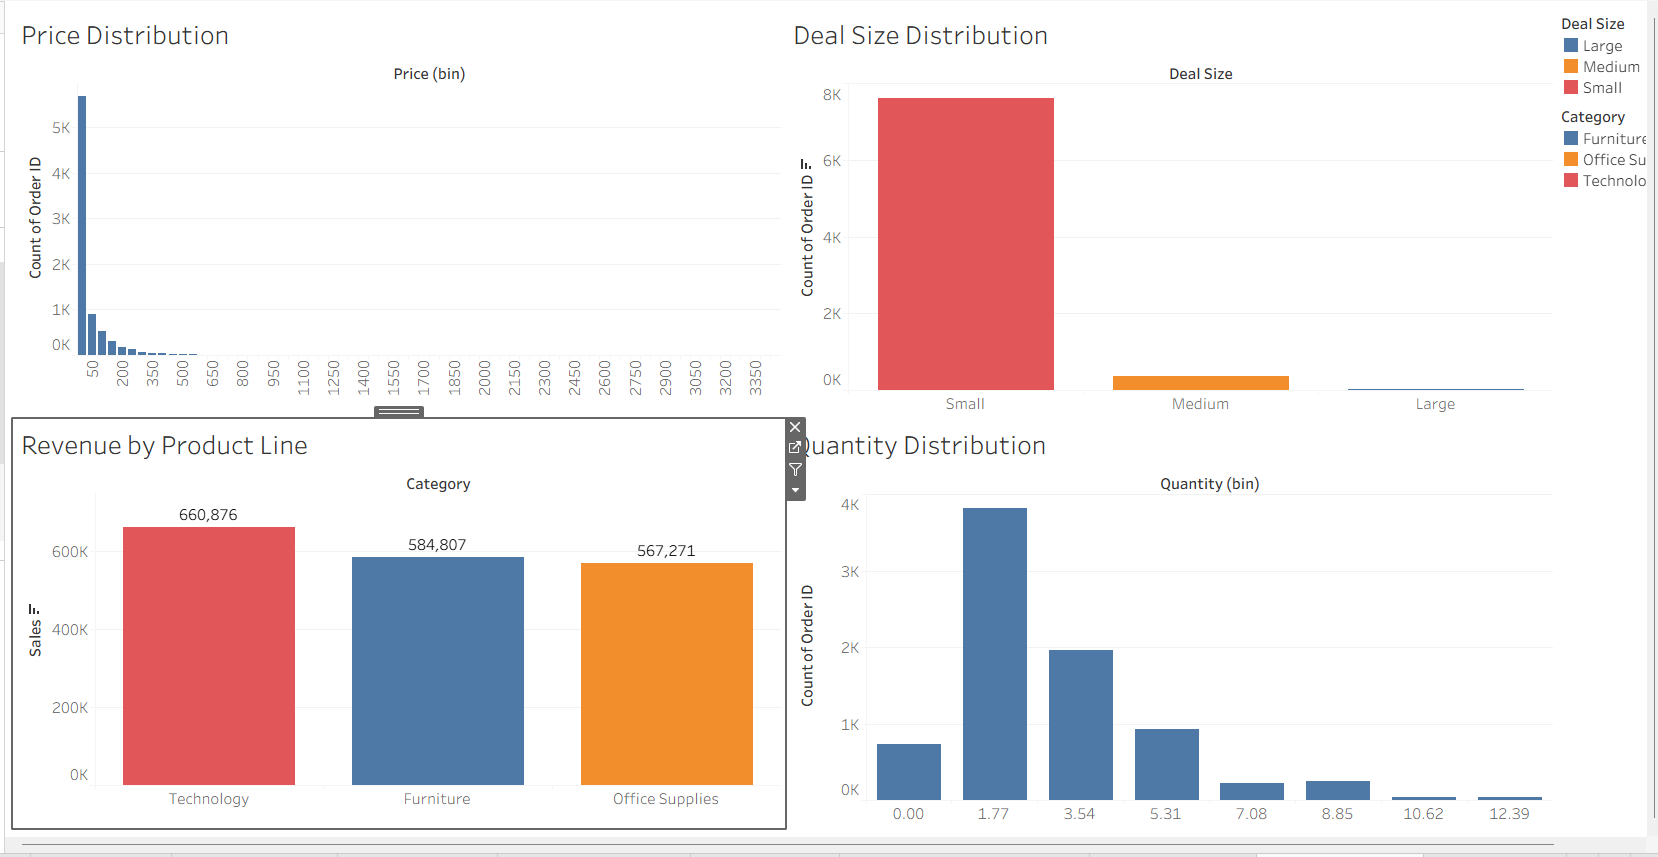

The page's visual inventory and layout, read from the dashboard file:
{"tool":"tableau","page":{"name":"Sales Dashboard 2","canvas":[1000,1000],"units":"permille","ordinal":1},"visuals":[{"type":"worksheet","title":"Price Distribution","mark":"Automatic","rows":["Order ID"],"cols":["Price (bin)"],"box":[4.7,9.6,448.8,490.4]},{"type":"worksheet","title":"Deal Size Distribution","mark":"Bar","rows":["Order ID"],"cols":["Calculation_1284286460538880"],"box":[453.5,9.6,448.8,490.4]},{"type":"legend","title":"Deal Size Distribution","param":"[federated.0youw2d06q1iv212xikgl08ue6ow].[none:Calculation_1284286460538880:nk]","box":[902.3,9.6,93,111.4]},{"type":"legend","title":"Revenue by Product Line","param":"[federated.0youw2d06q1iv212xikgl08ue6ow].[none:Category:nk]","box":[902.3,121,93,111.4]},{"type":"worksheet","title":"Revenue by Product Line","mark":"Automatic","rows":["Sales"],"cols":["Category"],"box":[4.7,500,448.8,490.4]},{"type":"worksheet","title":"Quantity Distribution","mark":"Automatic","rows":["Order ID"],"cols":["Quantity (bin)"],"box":[453.5,500,448.8,490.4]}]}

Visuals, with their boxes on the dashboard's canvas, which has no fixed pixel size, in thousandths of its width and height (x1, y1, x2, y2). These are canvas units, not pixel positions in the 1658x857 screenshot, which may show the page scaled, cropped or inside an application window:
"Price Distribution" worksheet: locate(5, 10, 454, 500)
"Deal Size Distribution" worksheet (Bar marks): locate(454, 10, 902, 500)
"Deal Size Distribution" legend: locate(902, 10, 995, 121)
"Revenue by Product Line" legend: locate(902, 121, 995, 232)
"Revenue by Product Line" worksheet: locate(5, 500, 454, 990)
"Quantity Distribution" worksheet: locate(454, 500, 902, 990)
